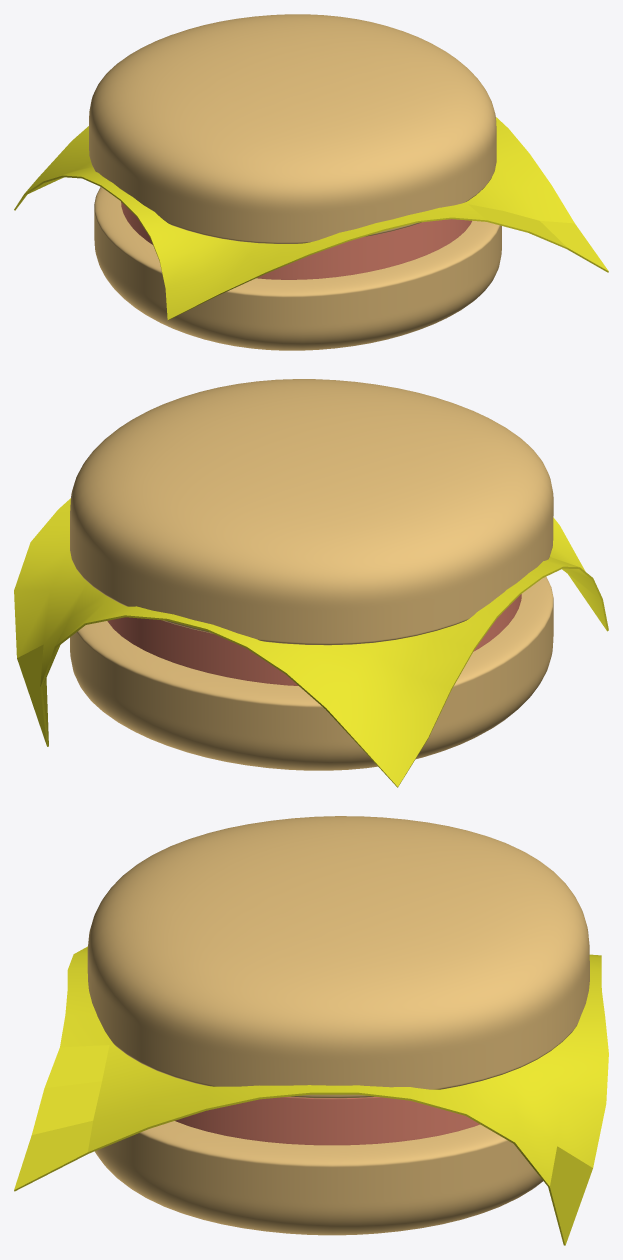
The model's file is hamburger.glb.
The picture shows the model from 3 angles, top to bottom: view 1: azimuth 30°, elevation 25°; view 2: azimuth 150°, elevation 25°; view 3: azimuth 270°, elevation 25°; orthographic projection. The views are drawn at different scales.
Visible parts, largest first — view 1: Cube.002, Cube, Plane, Cube.001; view 2: Cube.002, Cube, Plane, Cube.001; view 3: Cube.002, Plane, Cube, Cube.001.
Boxes of the visible parts, bbox=[...] form: Cube.002: bbox=[89, 14, 496, 243]; Cube: bbox=[94, 187, 501, 350]; Plane: bbox=[14, 117, 608, 320]; Cube.001: bbox=[121, 202, 471, 279]; Cube.002: bbox=[70, 379, 553, 645]; Cube: bbox=[70, 577, 553, 770]; Plane: bbox=[14, 498, 608, 787]; Cube.001: bbox=[107, 594, 521, 685]; Cube.002: bbox=[87, 816, 589, 1098]; Plane: bbox=[14, 946, 608, 1245]; Cube: bbox=[95, 1121, 542, 1235]; Cube.001: bbox=[175, 1097, 479, 1145].
Bounding box in the file's own units: 20 × 11.35 × 21.86.
